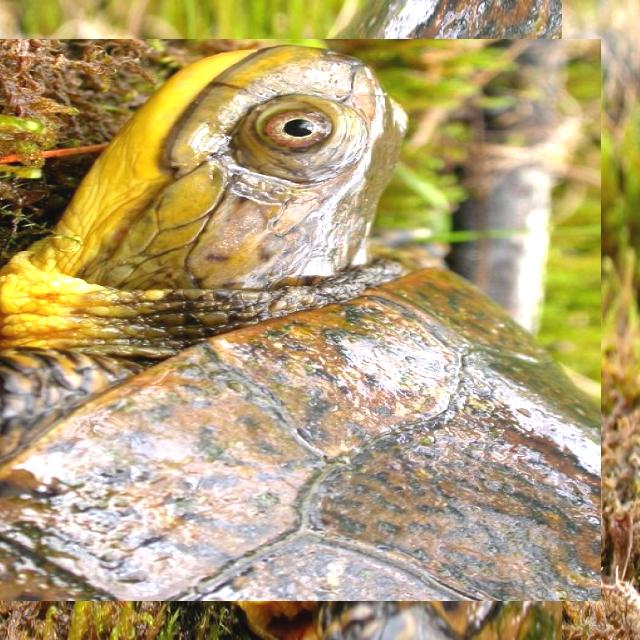Sea turtle: (0, 19, 581, 620)
